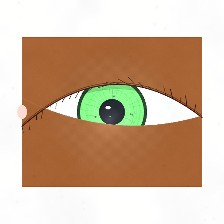pinguecula_lesion: (21, 99, 60, 130)
